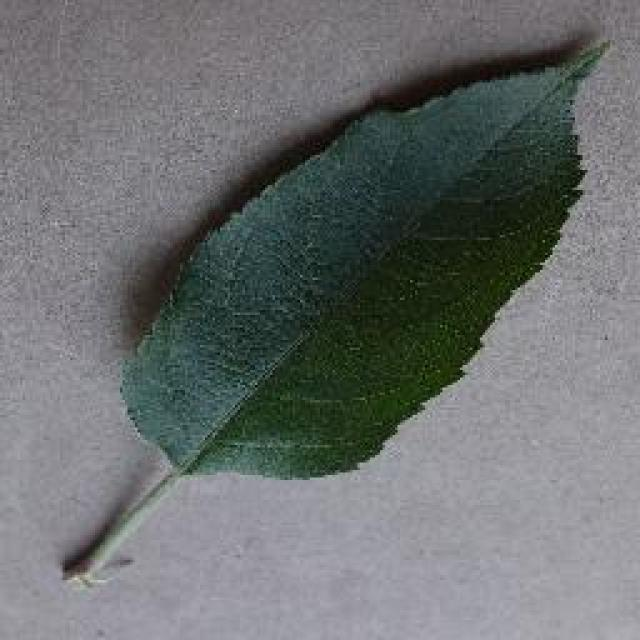apple healthy: (58, 30, 610, 585)
